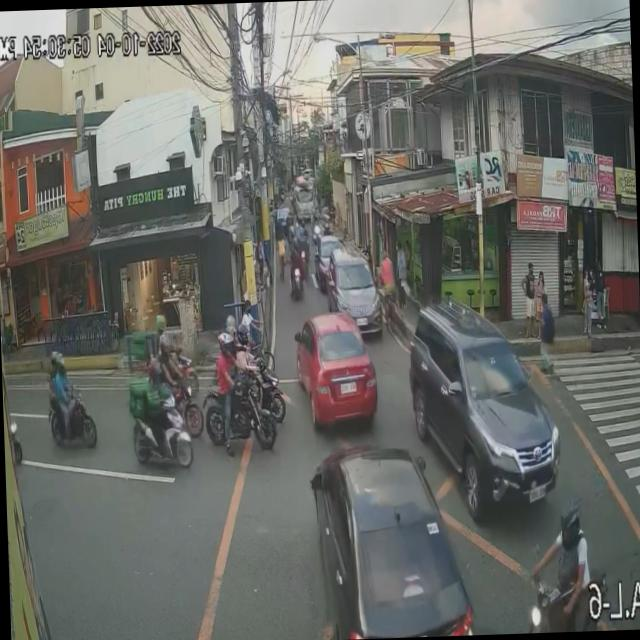full: (560, 502, 581, 552), (216, 328, 233, 358), (146, 356, 164, 384), (158, 332, 172, 358), (236, 321, 250, 346)
